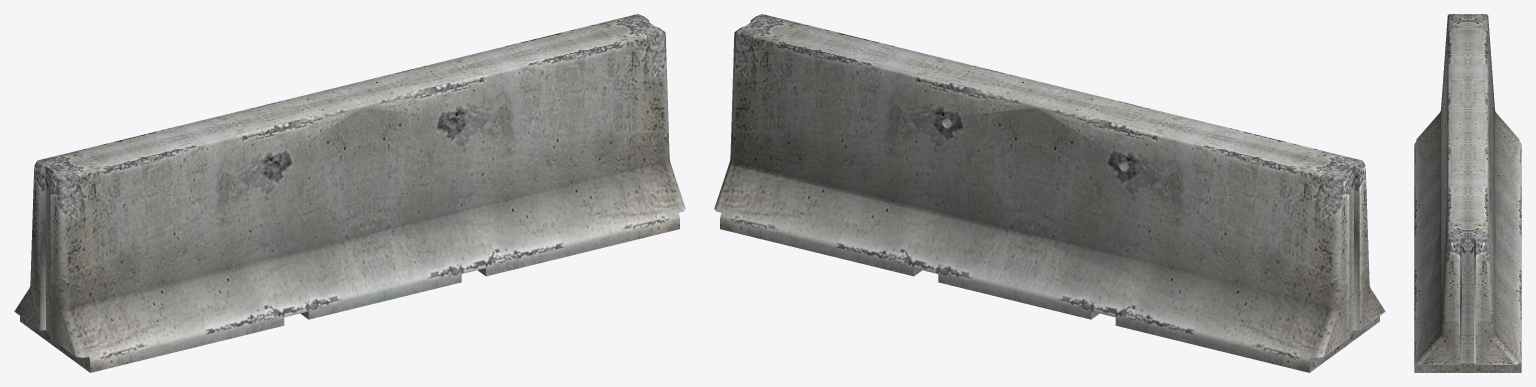
File: jersey_barrier.glb
The picture shows the model from 3 angles, left to right: view 1: azimuth 30°, elevation 25°; view 2: azimuth 150°, elevation 25°; view 3: azimuth 270°, elevation 25°; orthographic projection. The views are drawn at different scales.
Visible parts, largest first — view 1: Jersey_Barrier; view 2: Jersey_Barrier; view 3: Jersey_Barrier.
Boxes of the visible parts, x1,y1,x2,y2 form: Jersey_Barrier: [14, 14, 685, 372]; Jersey_Barrier: [714, 14, 1385, 372]; Jersey_Barrier: [1414, 14, 1521, 372].
Bounding box in the file's own units: 4.07 × 1.14 × 0.8128.
1 material, 1 textured.
